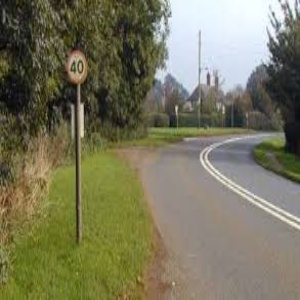40 speed: (66, 50, 89, 84)
